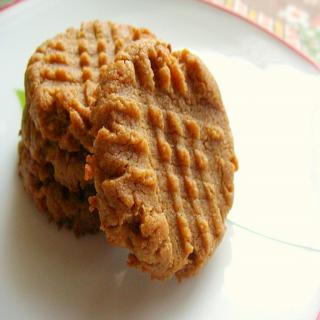Cookie: (83, 37, 239, 284), (15, 19, 158, 235)
